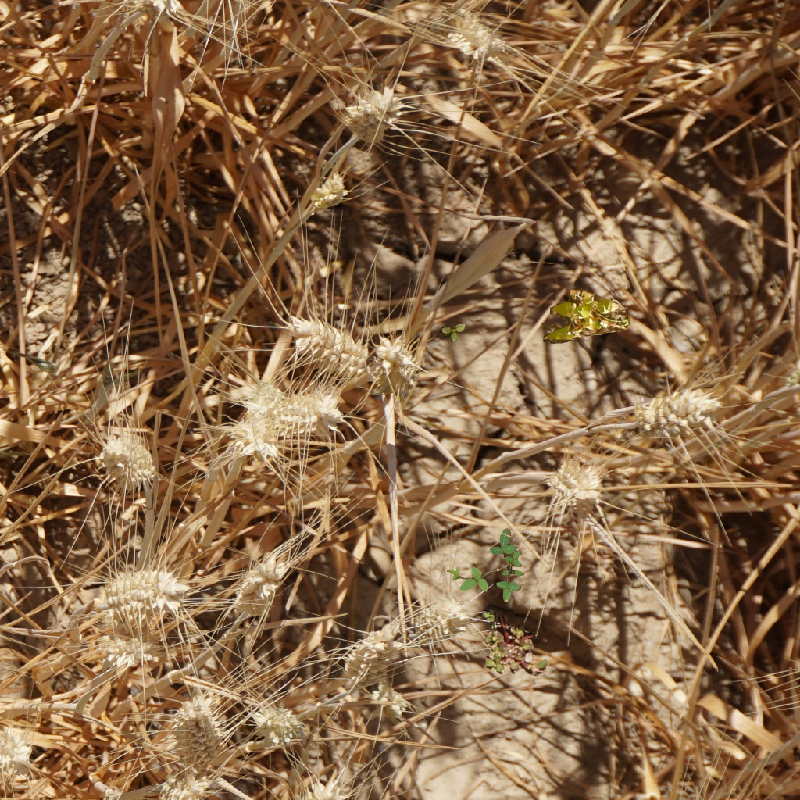spikelet: (630, 379, 725, 446), (164, 693, 230, 773), (285, 314, 371, 375), (267, 387, 352, 445), (89, 596, 190, 644), (90, 426, 158, 493), (335, 83, 412, 139), (538, 452, 612, 509), (93, 559, 184, 605), (339, 622, 405, 682), (401, 594, 468, 652), (438, 8, 503, 65), (232, 556, 285, 624), (246, 694, 307, 750), (224, 390, 278, 450), (365, 330, 413, 397), (362, 684, 424, 728), (281, 768, 359, 800), (97, 637, 159, 673), (1, 719, 33, 784), (154, 768, 217, 800), (312, 172, 350, 217), (141, 1, 191, 21)
weed: (447, 528, 524, 602), (541, 288, 630, 344), (482, 608, 549, 677), (442, 324, 466, 342)
